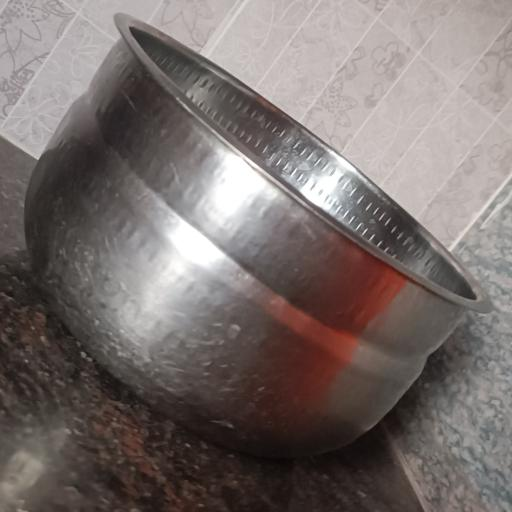vessel: (26, 15, 492, 456)
